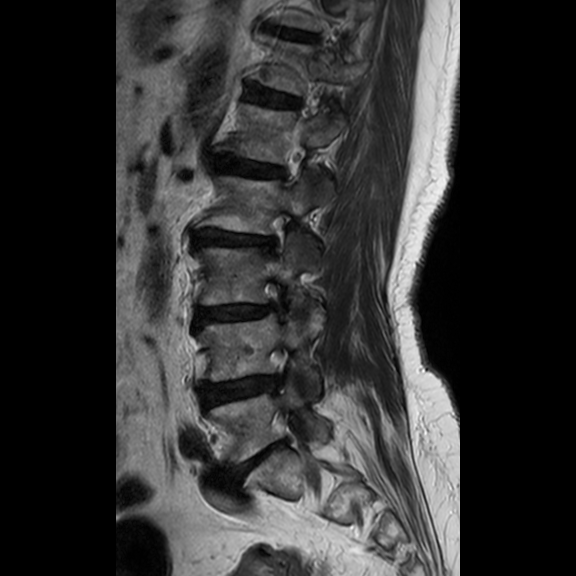LFS1: (256, 203, 300, 268)
LFS3: (254, 271, 297, 327)
